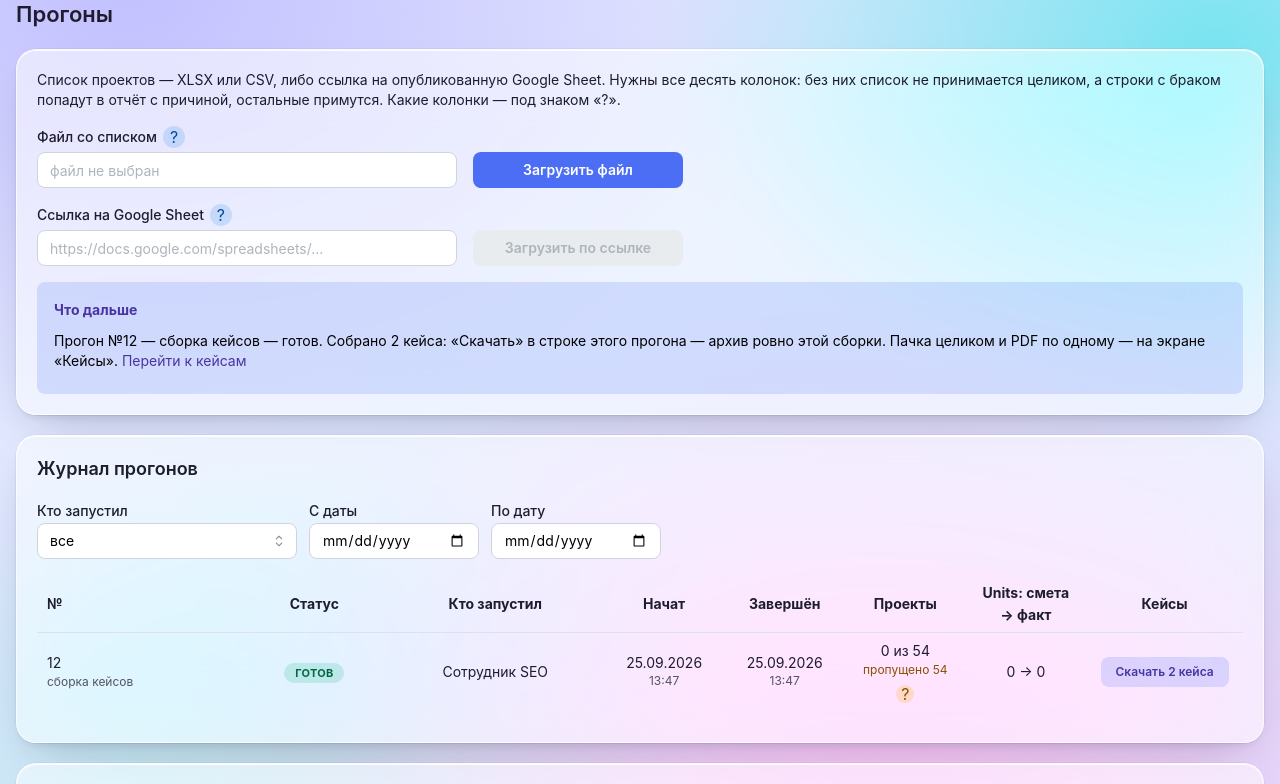
it: кейсы из строки журнала › R4: отказ выдачи — словами сервера под кнопкой
This screenshot has width=1280, height=784.
Click the button "Скачать 2 кейса" at x=1165, y=672, box [1100, 657, 1229, 687]
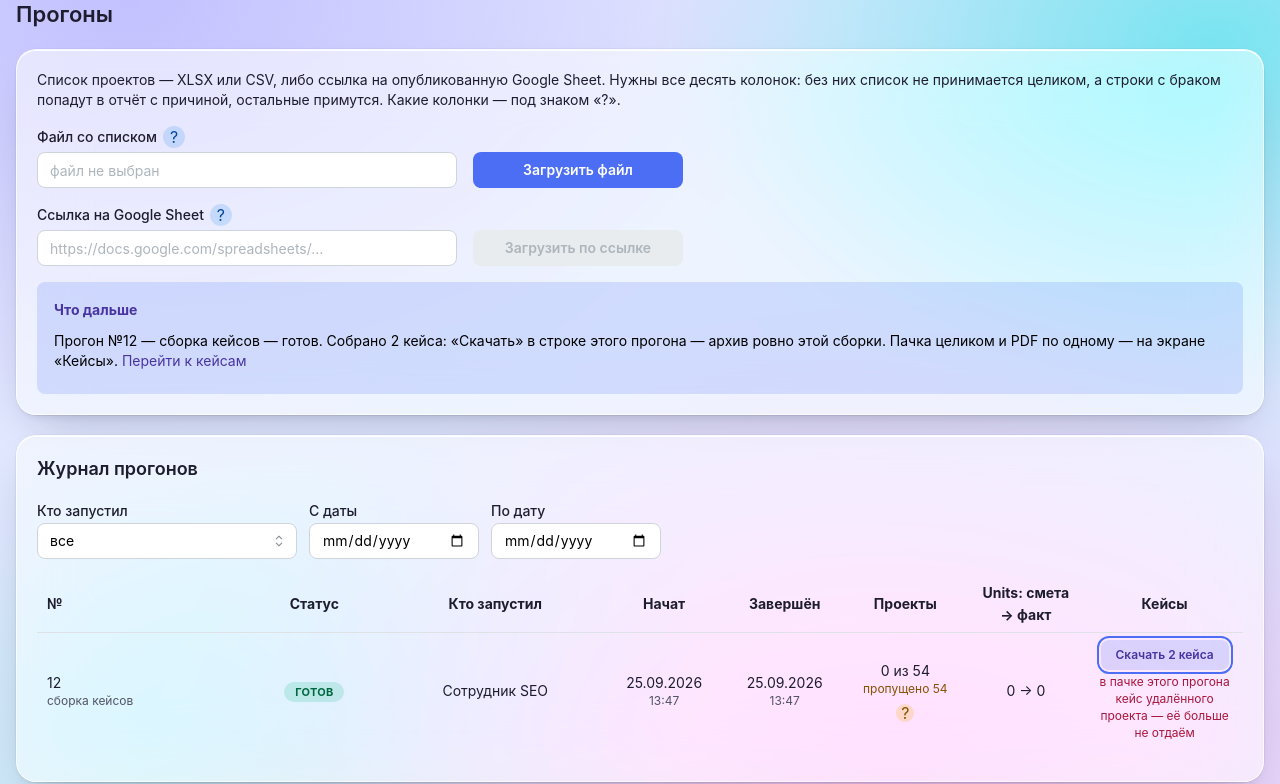
Expected: the text "в пачке этого прогона кейс удалённого проекта — её больше не отдаём" is shown, [1096, 674, 1233, 742]
